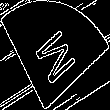M_SW: (30, 22, 80, 88)
